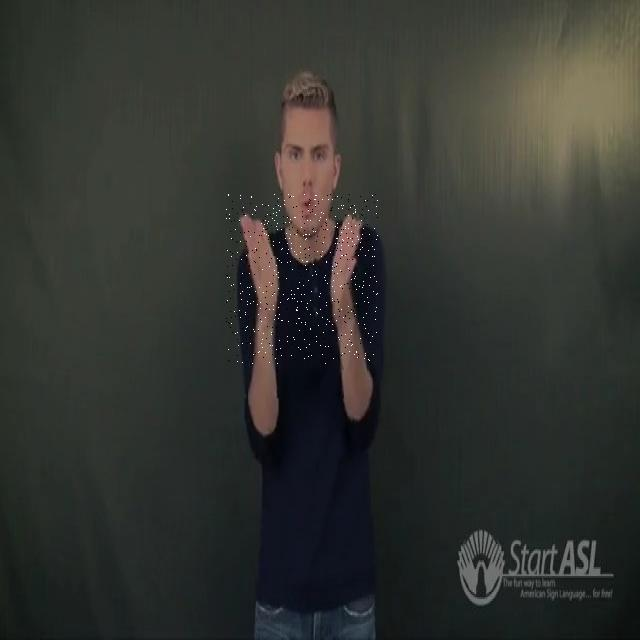small: (226, 194, 378, 364)
